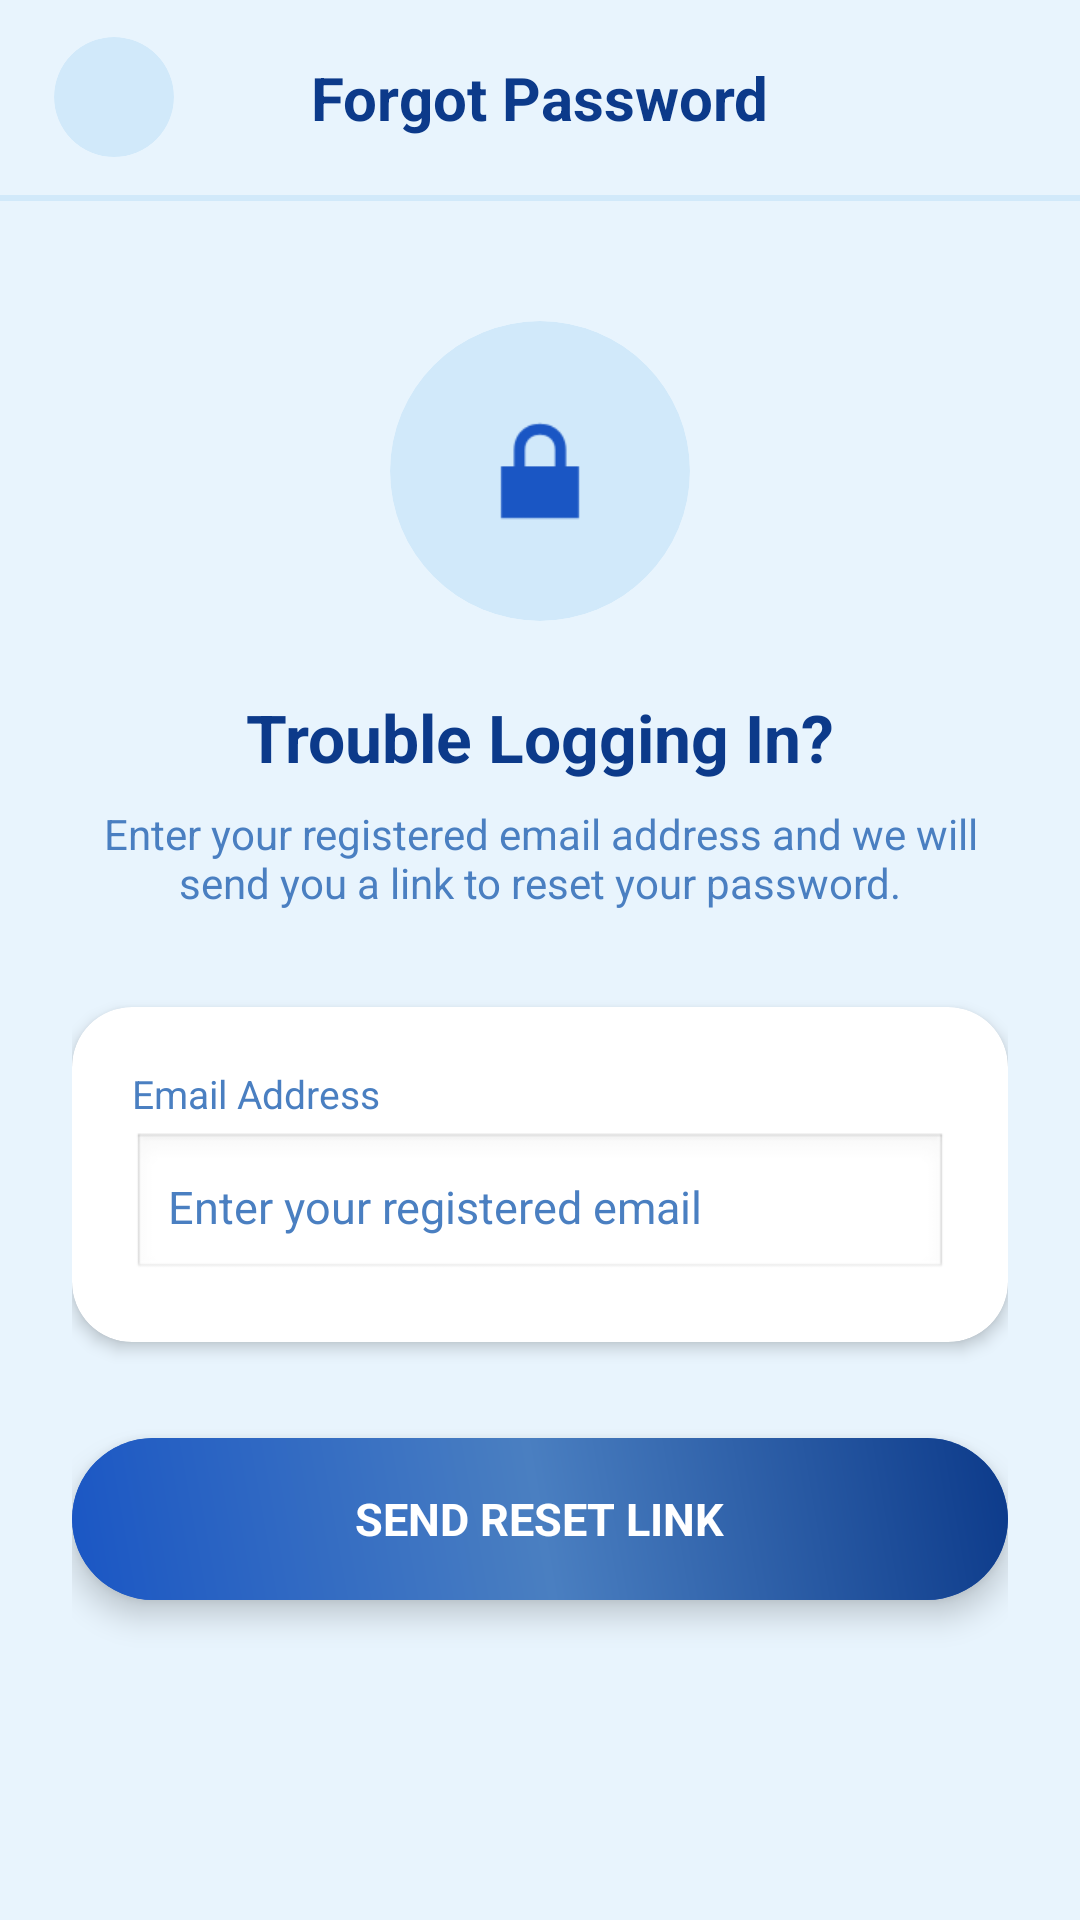

Locate icon controls on the screen. Image size 1080×1920, boxes as (x1, y1, x2, y2).
lock: (500, 423, 580, 519)
